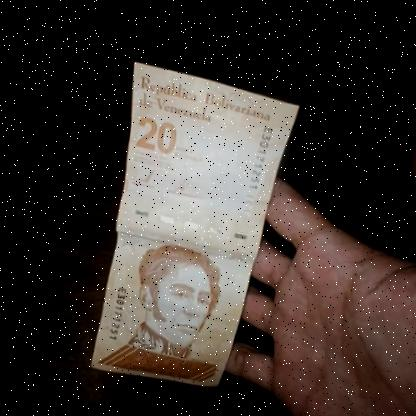twenty-front-vef: (79, 56, 307, 390)
